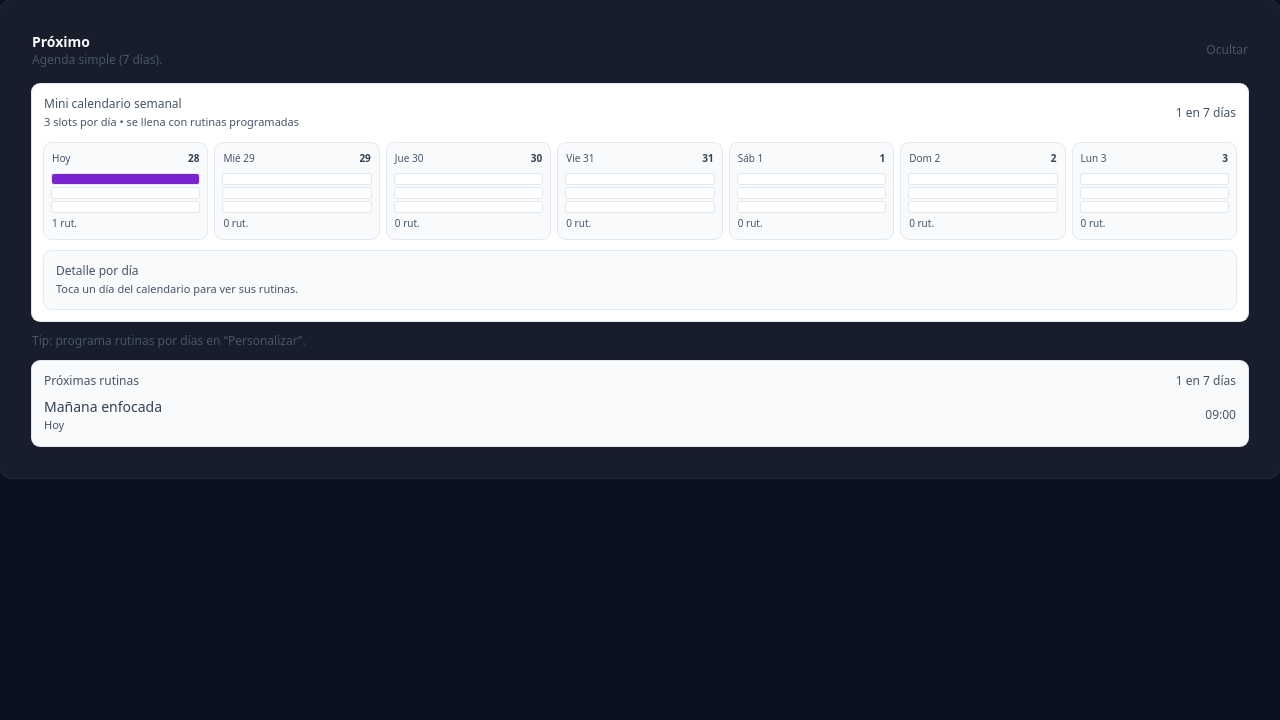
Test: UpcomingWidget › shows an empty message for a selected day with nothing scheduled
Click the button "Mié 29 29 0 rut." at (297,190), box x1=215 y1=142 x2=379 y2=238
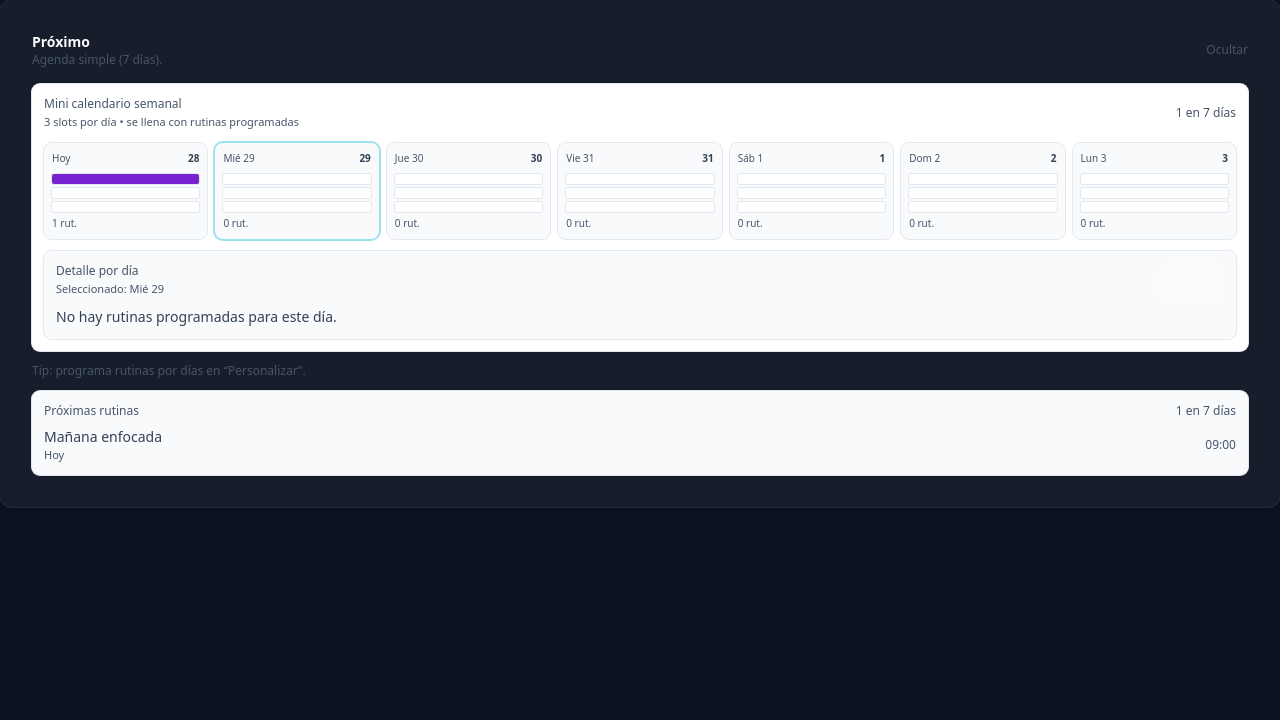
Now the text "No hay rutinas programadas para este día." is shown, box x1=56 y1=306 x2=337 y2=326
